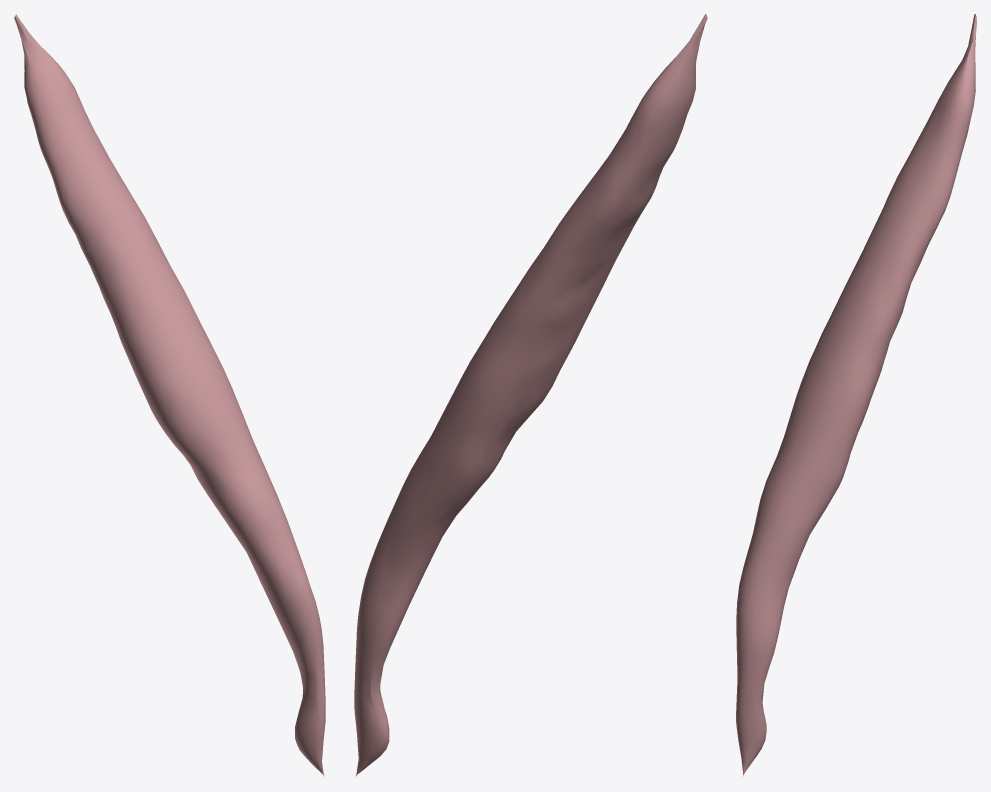
File: fma46226_mm1968m.glb
3 renders of one model, left to right at view 1: azimuth 30°, elevation 25°; view 2: azimuth 210°, elevation 25°; view 3: azimuth 270°, elevation 25°, orthographic. The views are drawn at different scales.
Visible parts, largest first — view 1: FMA46226_MM1968M; view 2: FMA46226_MM1968M; view 3: FMA46226_MM1968M.
Part boxes in pixels (x1,y1,x2,y2): FMA46226_MM1968M: (14, 14, 325, 776); FMA46226_MM1968M: (354, 14, 707, 776); FMA46226_MM1968M: (736, 14, 976, 776).
Size of the model in its own units: 0.0174 by 0.0634 by 0.0204.
